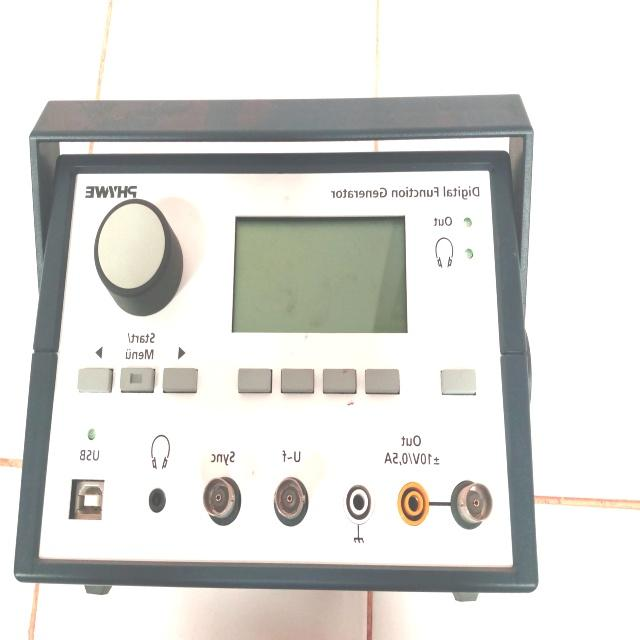Digital Function Generator: (2, 87, 553, 628)
